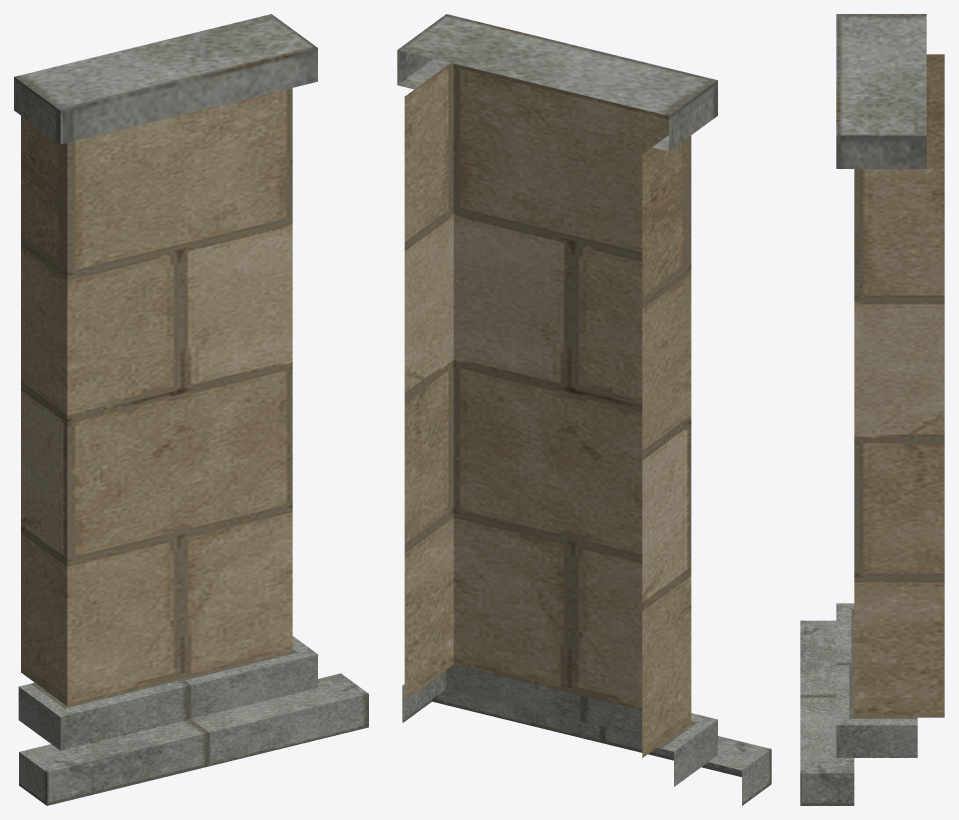
File: pillar_buttress_half.fbx
3 renders of one model, left to right at view 1: azimuth 30°, elevation 25°; view 2: azimuth 150°, elevation 25°; view 3: azimuth 270°, elevation 25°, orthographic. The views are drawn at different scales.
Visible parts, largest first — view 1: pillar_buttress_half; view 2: pillar_buttress_half; view 3: pillar_buttress_half.
Boxes of the visible parts, x1=… form: pillar_buttress_half: x1=14, y1=14, x2=368, y2=805; pillar_buttress_half: x1=397, y1=14, x2=771, y2=805; pillar_buttress_half: x1=800, y1=14, x2=944, y2=805.
Size of the model in its own units: 100 by 200 by 40.
